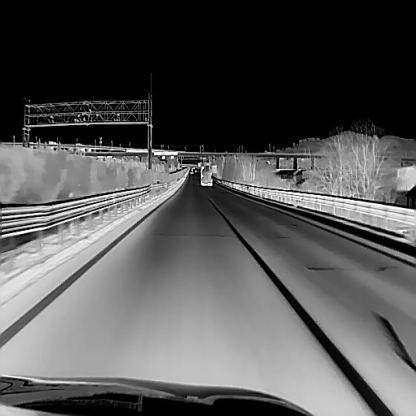car: (199, 164, 212, 185)
